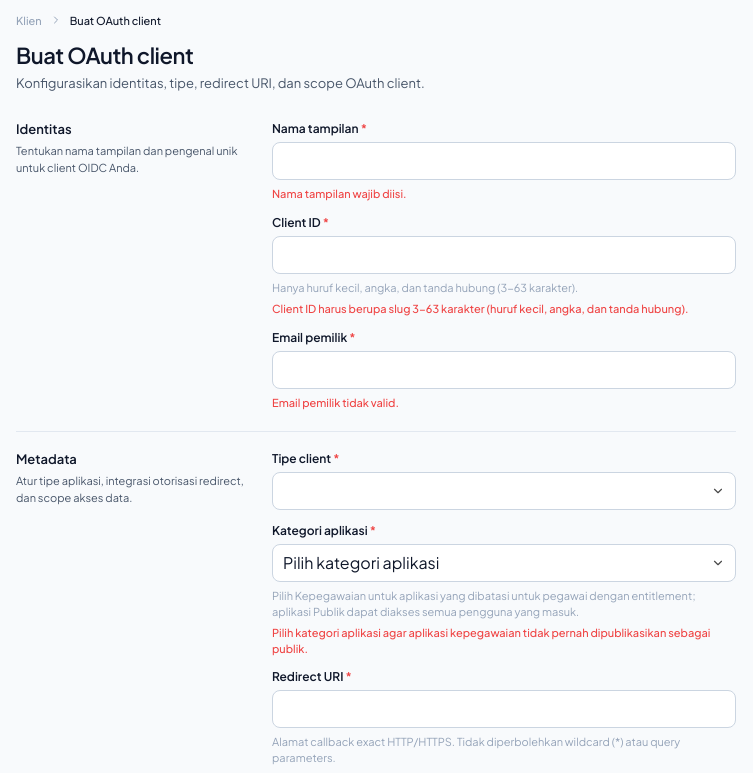
clients/new page — validation gating › auto-slugs the client_id from the display name and flags it valid
Type "Selamat Kerja" into the field with id "create_display_name" at (504, 161), box 272,142 -> 736,180
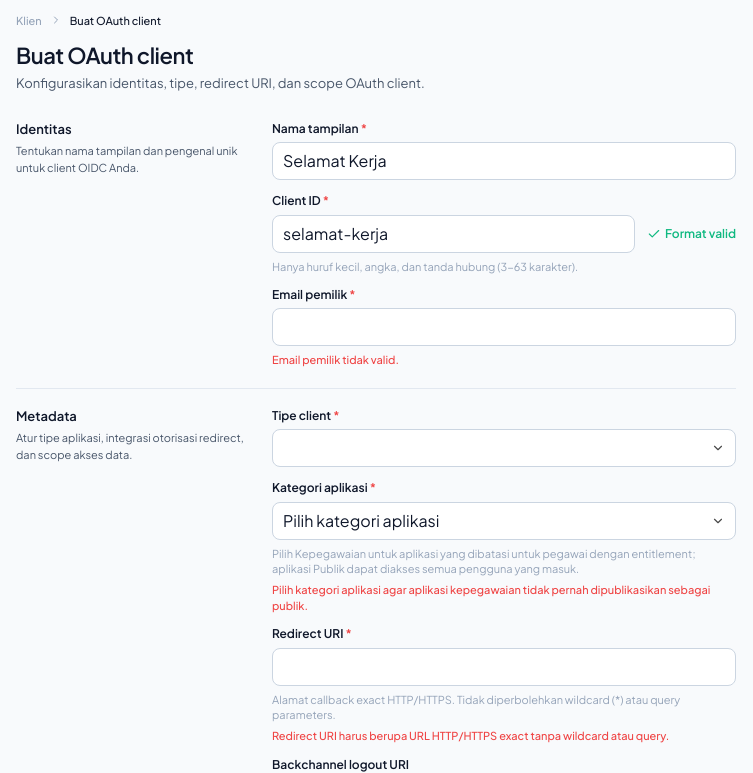
Check: the field with id "create_client_id" holds "selamat-kerja", box 272,215 -> 635,253
Check: the element with test id "client-id-valid" is shown, box 647,227 -> 736,241
